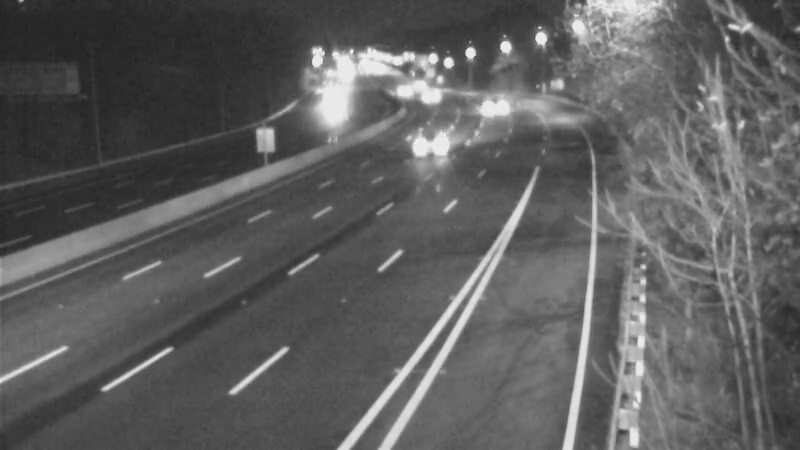vehicle: (403, 70, 453, 120), (376, 63, 426, 113), (461, 82, 511, 132), (405, 114, 455, 164), (296, 87, 346, 137)
